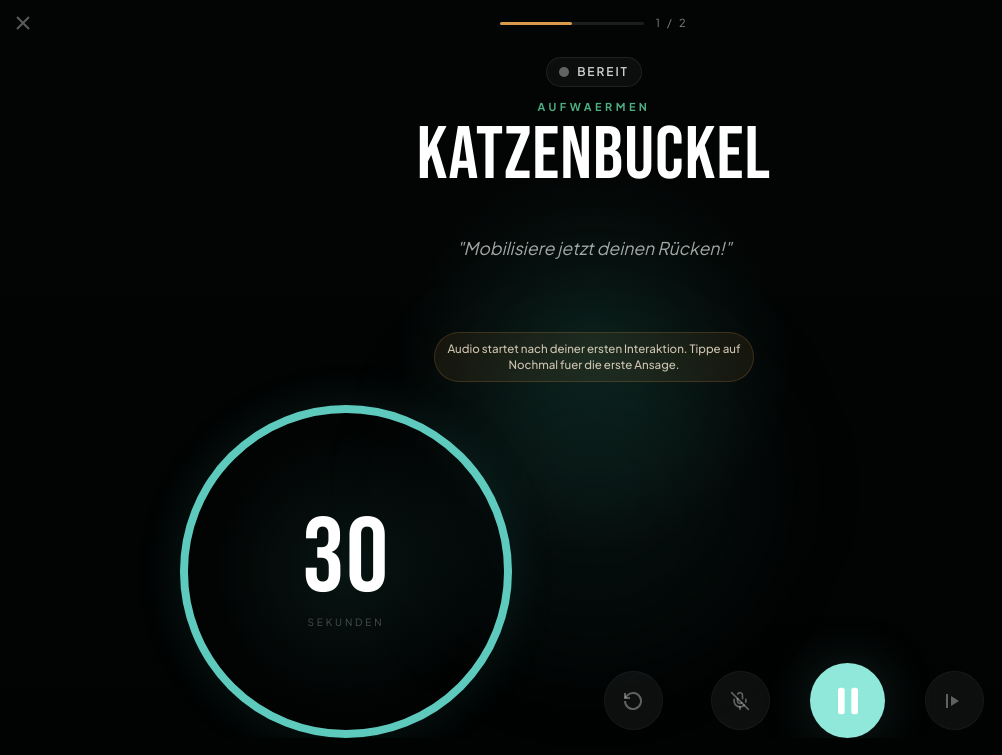
Scenario: SessionPlayer › shows next exercise on next button click
Click the button named "weiter" at (954,700), box [925,671,984,730]
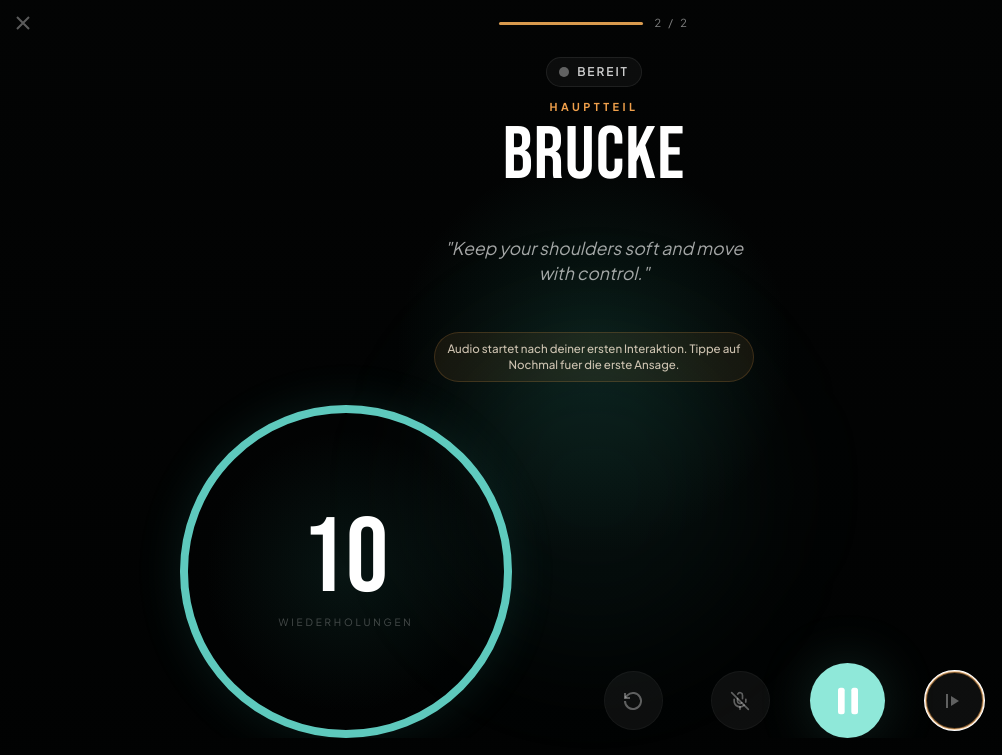
Expected: the heading "Brücke" is shown, [503,111,685,200]
